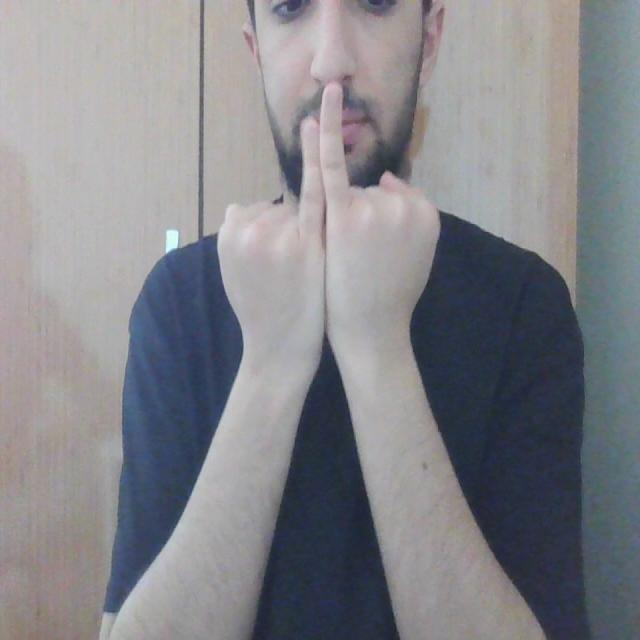Kardes: (213, 77, 446, 356)
